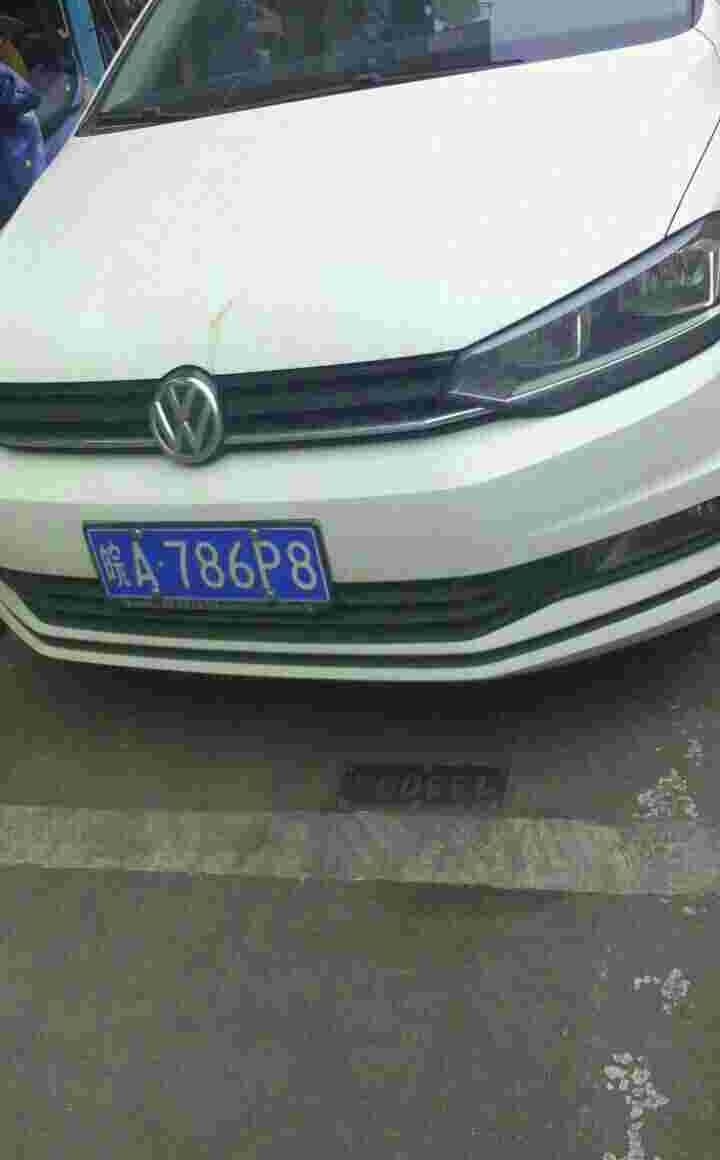plate: (82, 524, 105, 606)
